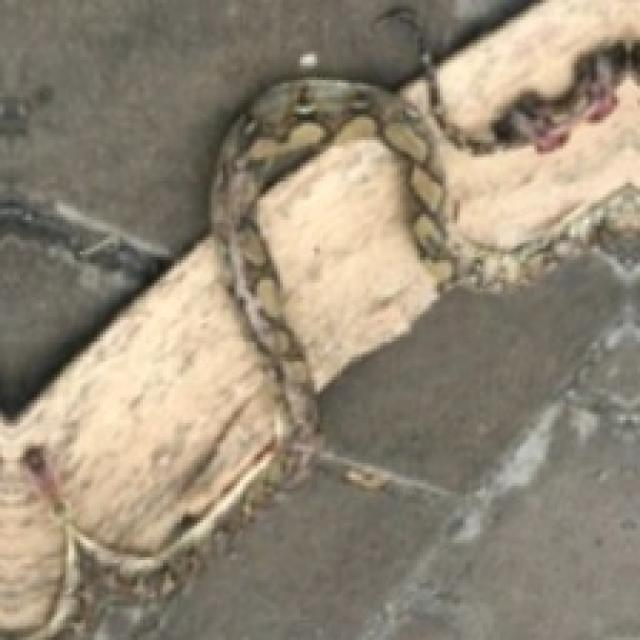reticulated python: (15, 9, 640, 639)
